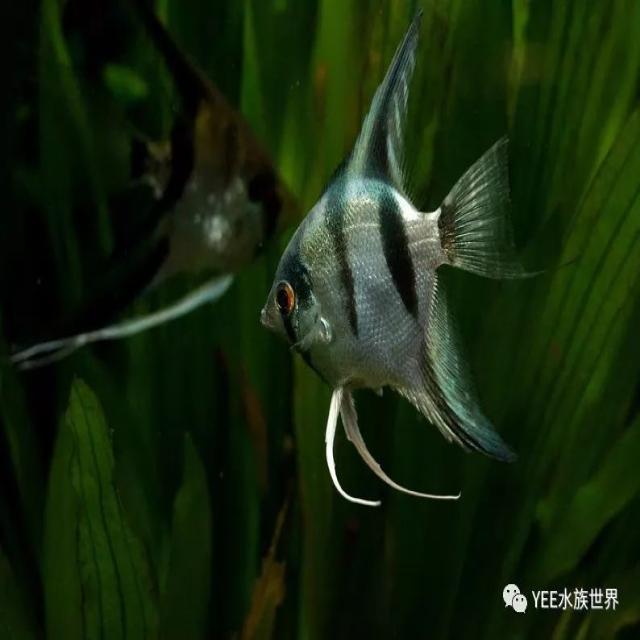AngelFish: (260, 8, 513, 523), (22, 0, 304, 392)
